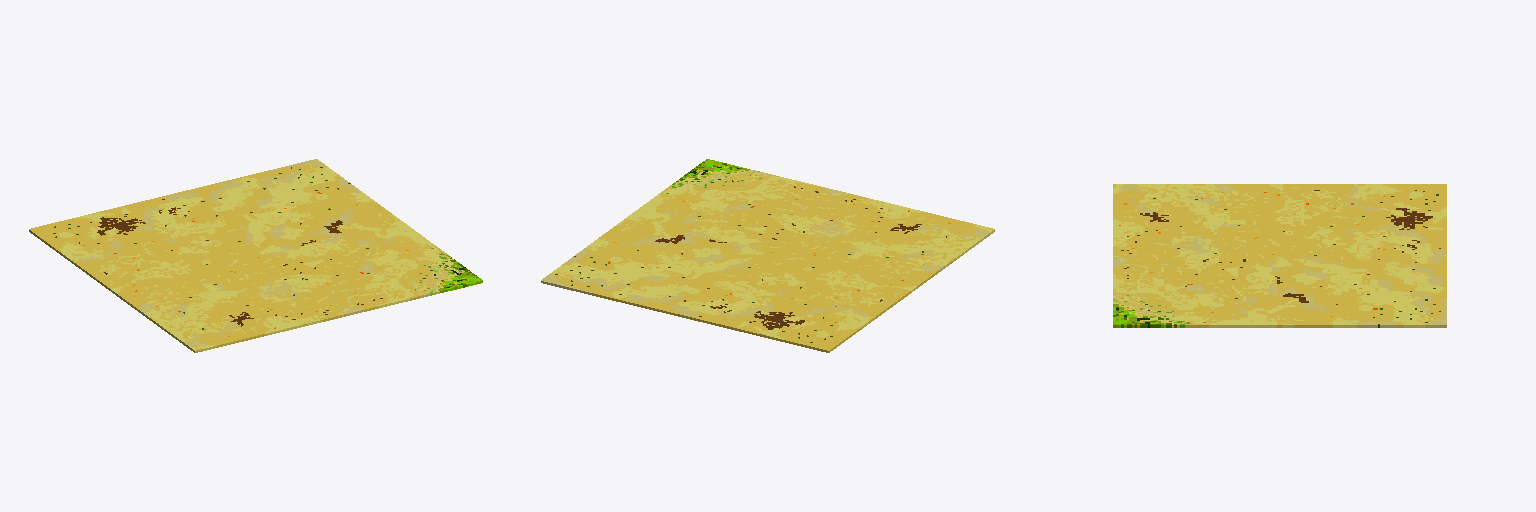
3 views of the same model, side by side, from view 1: azimuth 30°, elevation 25°; view 2: azimuth 150°, elevation 25°; view 3: azimuth 270°, elevation 25° (orthographic).
Visible parts, largest first — view 1: da——di——tu-5; view 2: da——di——tu-5; view 3: da——di——tu-5.
Boxes of the visible parts, x1,y1,x2,y2 form: da——di——tu-5: [29, 159, 482, 352]; da——di——tu-5: [541, 159, 994, 352]; da——di——tu-5: [1113, 184, 1446, 327].
Size of the model in its own units: 126 by 1 by 126.
1 materials, 1 textured.